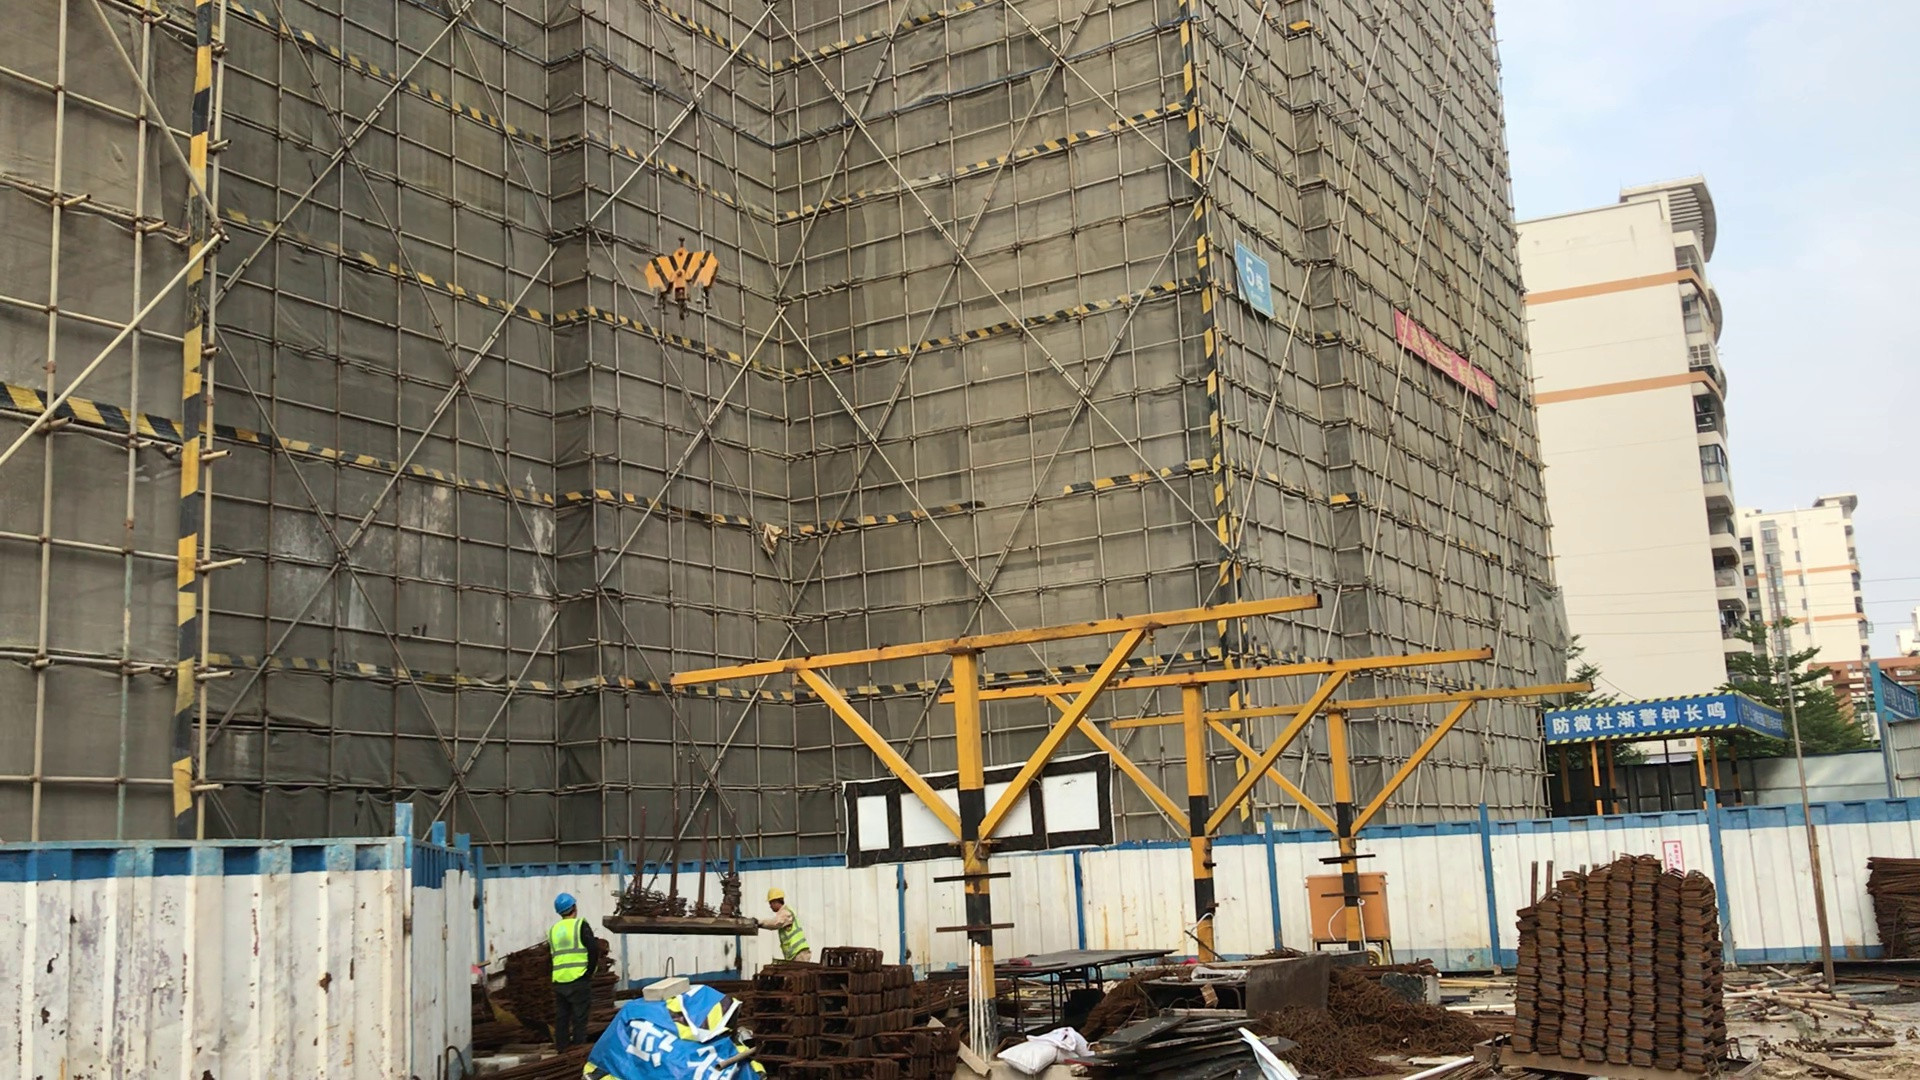helmet: (554, 895, 577, 912), (763, 887, 785, 903)
hook: (635, 245, 721, 319)
person: (548, 893, 594, 1051), (756, 886, 809, 962)
slogan: (1392, 299, 1503, 410), (1549, 693, 1737, 743)
vest: (551, 918, 587, 984), (770, 907, 809, 959)
